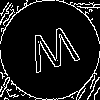W: (25, 25, 84, 82)
